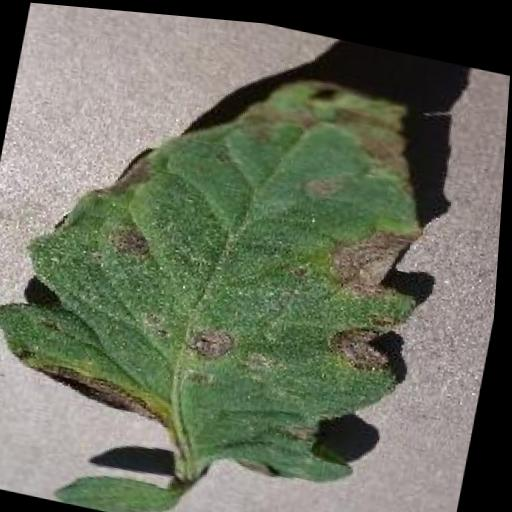Early Blight: (0, 19, 459, 496)
